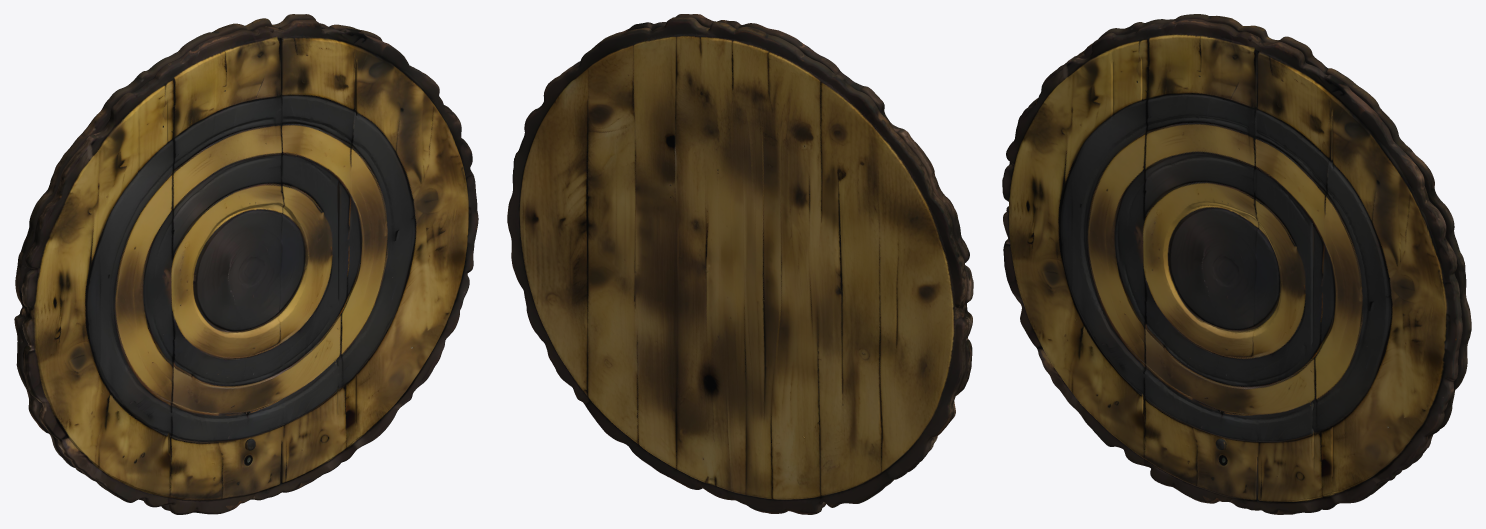
File: tripo_convert_4e3ddce3-b6d3-4290-9fc5-e9f3fe7b1c8e.fbx
The picture shows the model from 3 angles, left to right: view 1: azimuth 30°, elevation 25°; view 2: azimuth 150°, elevation 25°; view 3: azimuth 330°, elevation 25°; orthographic projection.
Parts seen in each view (by area): view 1: tripo_node_4e3ddce3; view 2: tripo_node_4e3ddce3; view 3: tripo_node_4e3ddce3.
Part boxes in pixels (x1=…): tripo_node_4e3ddce3: x1=14, y1=14, x2=478, y2=514; tripo_node_4e3ddce3: x1=507, y1=14, x2=973, y2=514; tripo_node_4e3ddce3: x1=1002, y1=14, x2=1471, y2=514.
Size of the model in its own units: 0.9998 by 0.9977 by 0.0672.
1 material, 1 textured.
